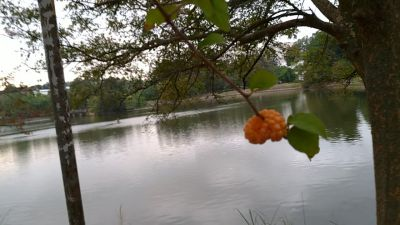eggs: (241, 107, 290, 146)
